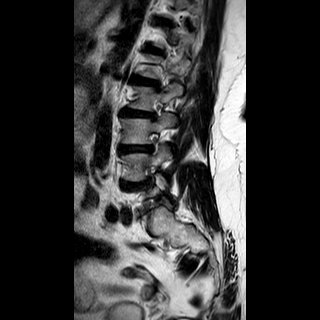LFS0: (141, 126, 165, 160), (144, 95, 166, 125)
